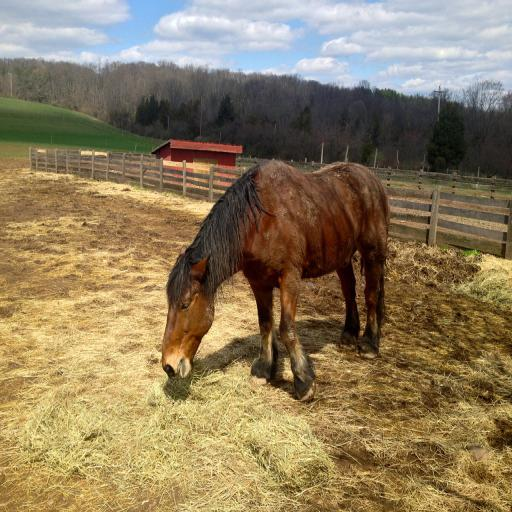Horse: (160, 158, 388, 406)
